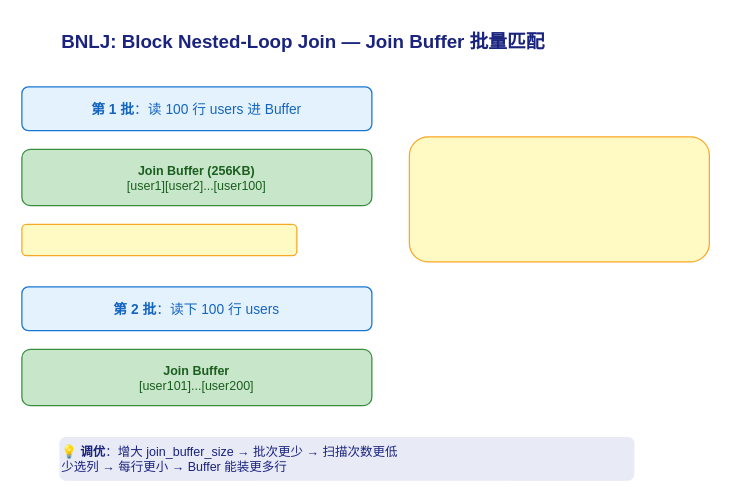
Image size: 731x501. Some labels were removed from this diagram. Each missing label, with the box of its shape:
对比 SNLJ 扫描次数：1000 → 10 次 每次仍扫 10 万行 总扫描行数： 1000 万行 比 SNLJ 少 10 倍: (408, 136, 709, 262)
扫一次 orders 全表匹配: (21, 223, 297, 256)
